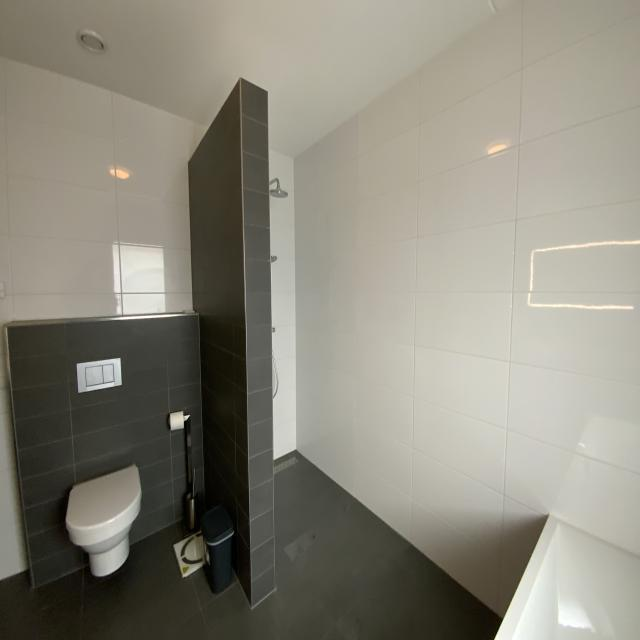bath: (493, 512, 640, 640)
douche: (242, 78, 429, 608)
toilet: (64, 355, 144, 578)
